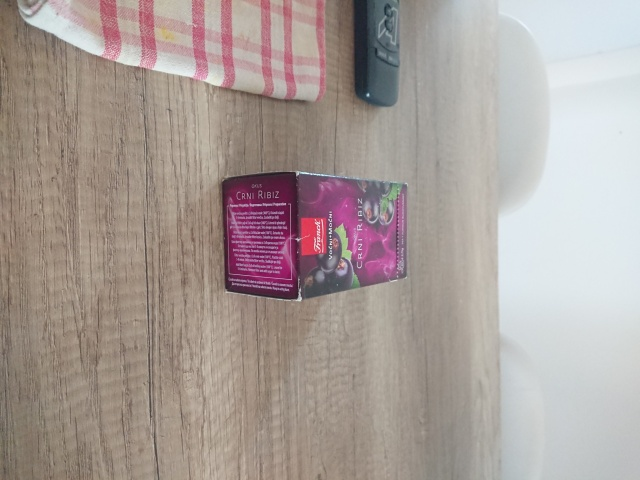Franck Black Currant Tea 60g: (219, 168, 411, 305)
